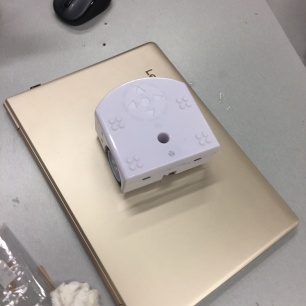thymio: (86, 75, 222, 195)
